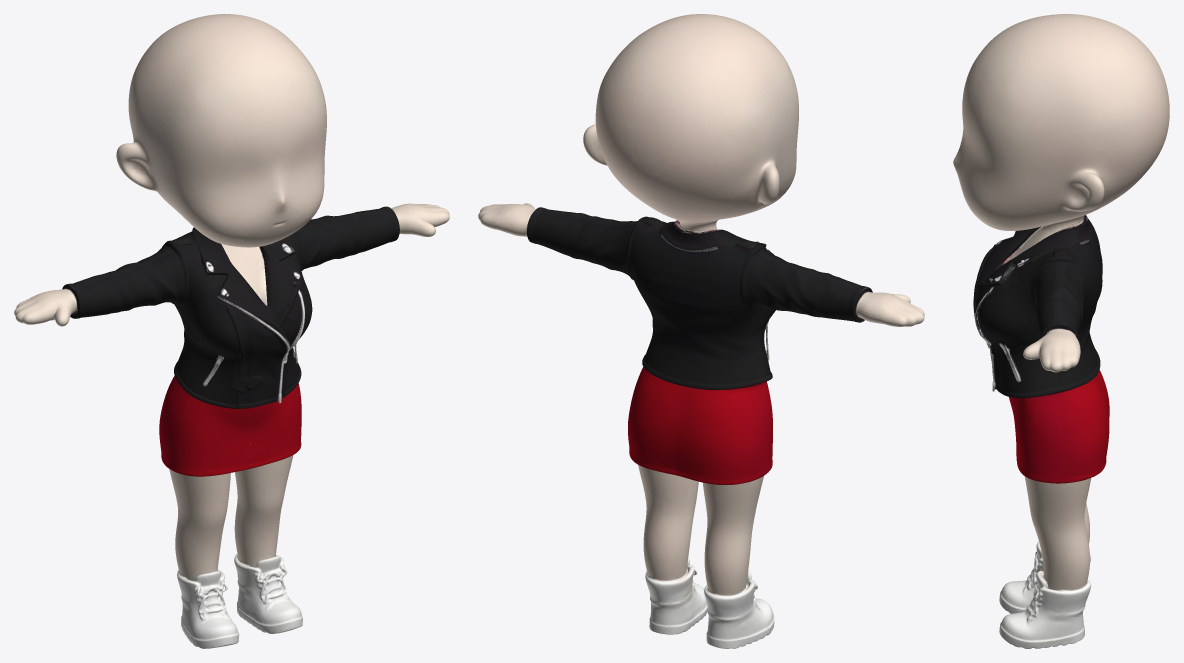
The model's file is baked_outfit_biker.glb.
The picture shows the model from 3 angles, left to right: view 1: azimuth 30°, elevation 25°; view 2: azimuth 150°, elevation 25°; view 3: azimuth 270°, elevation 25°; orthographic projection. The views are drawn at different scales.
Bounding box in the file's own units: 1.44 × 1.9 × 0.6208.
Materials: 1 (1 with a texture image).
